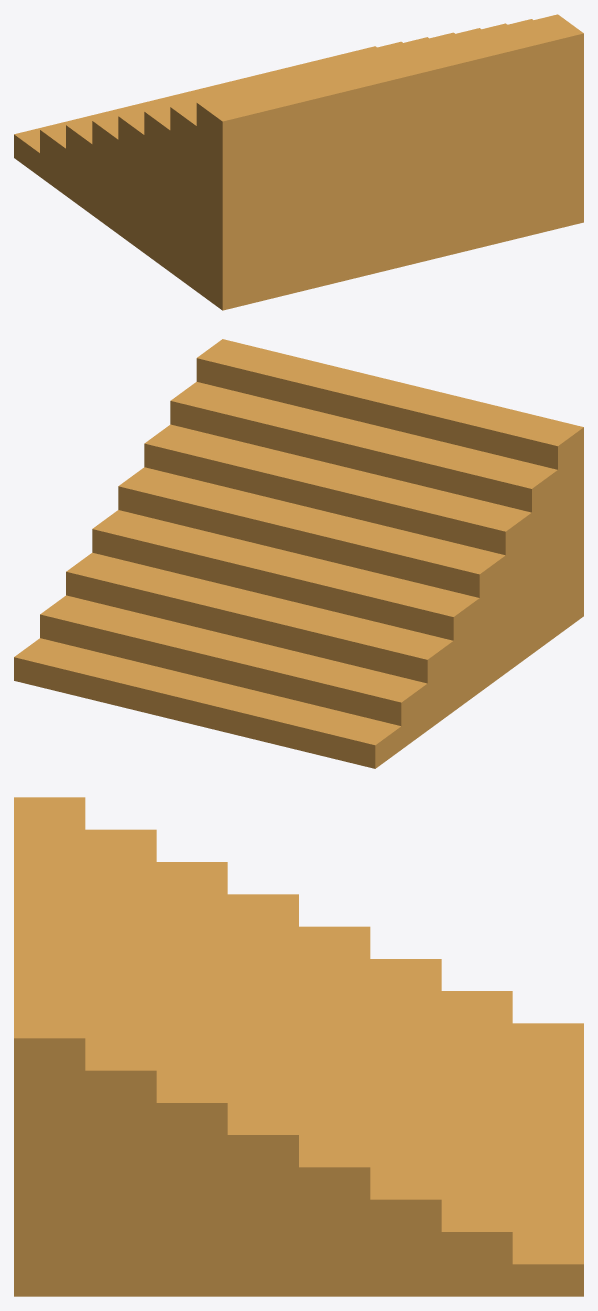
Rendered from ramp_2x2x1.glb.
3 renders of one model, top to bottom at view 1: azimuth 30°, elevation 25°; view 2: azimuth 150°, elevation 25°; view 3: azimuth 270°, elevation 25°, orthographic. The views are drawn at different scales.
Parts seen in each view (by area): view 1: ramp_tread_08, ramp_tread_01, ramp_tread_02, ramp_tread_03, ramp_tread_04, ramp_tread_05, ramp_tread_06, ramp_tread_07; view 2: ramp_tread_01, ramp_tread_02, ramp_tread_03, ramp_tread_04, ramp_tread_05, ramp_tread_06, ramp_tread_07, ramp_tread_08; view 3: ramp_tread_01, ramp_tread_02, ramp_tread_03, ramp_tread_04, ramp_tread_05, ramp_tread_06, ramp_tread_07, ramp_tread_08.
Part boxes in pixels (x1=…): ramp_tread_08: x1=196, y1=14, x2=583, y2=144; ramp_tread_01: x1=14, y1=46, x2=583, y2=310; ramp_tread_02: x1=40, y1=41, x2=583, y2=286; ramp_tread_03: x1=66, y1=37, x2=583, y2=263; ramp_tread_04: x1=92, y1=32, x2=583, y2=239; ramp_tread_05: x1=118, y1=28, x2=583, y2=215; ramp_tread_06: x1=144, y1=23, x2=583, y2=192; ramp_tread_07: x1=170, y1=19, x2=583, y2=168; ramp_tread_01: x1=14, y1=593, x2=583, y2=768; ramp_tread_02: x1=40, y1=569, x2=583, y2=726; ramp_tread_03: x1=66, y1=545, x2=583, y2=683; ramp_tread_04: x1=92, y1=510, x2=583, y2=640; ramp_tread_05: x1=118, y1=467, x2=583, y2=597; ramp_tread_06: x1=144, y1=424, x2=583, y2=555; ramp_tread_07: x1=170, y1=381, x2=583, y2=512; ramp_tread_08: x1=196, y1=339, x2=583, y2=469; ramp_tread_01: x1=14, y1=1023, x2=583, y2=1296; ramp_tread_02: x1=14, y1=991, x2=512, y2=1264; ramp_tread_03: x1=14, y1=959, x2=441, y2=1231; ramp_tread_04: x1=14, y1=926, x2=370, y2=1199; ramp_tread_05: x1=14, y1=894, x2=298, y2=1167; ramp_tread_06: x1=14, y1=862, x2=227, y2=1134; ramp_tread_07: x1=14, y1=829, x2=156, y2=1102; ramp_tread_08: x1=14, y1=797, x2=85, y2=1070.
Bounding box in the file's own units: 2 × 1 × 2.
